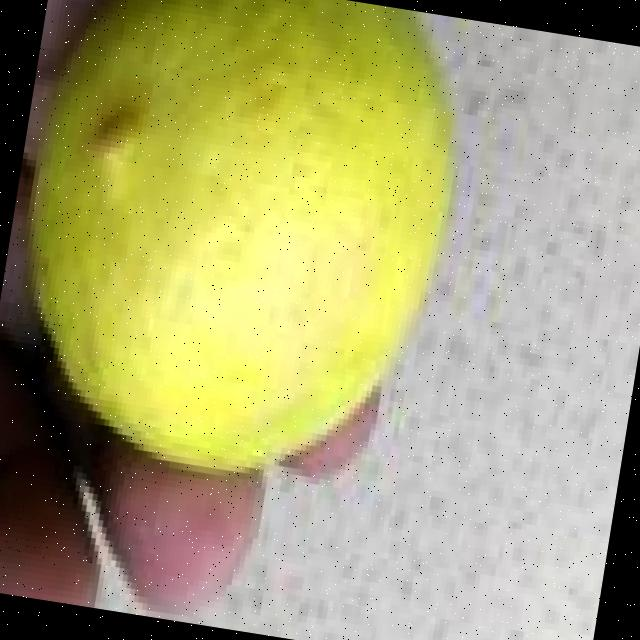Good_Lime-10-21-days: (15, 0, 456, 483)
